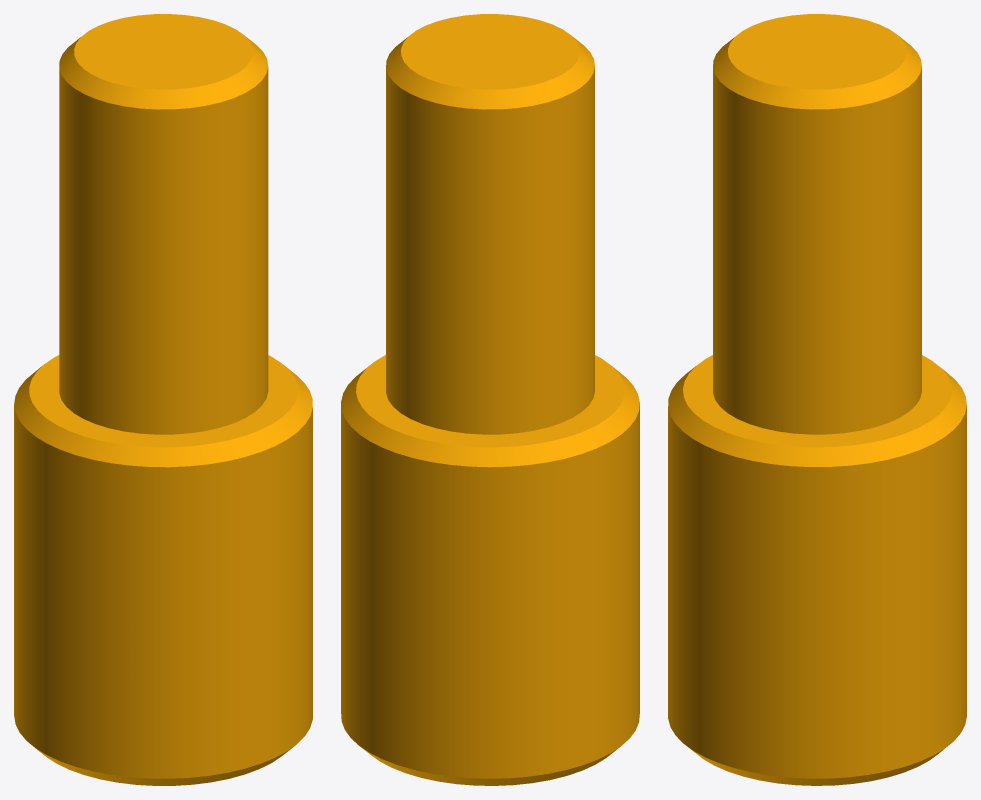
3 renders of one model, left to right at view 1: azimuth 30°, elevation 25°; view 2: azimuth 150°, elevation 25°; view 3: azimuth 270°, elevation 25°, orthographic.
Visible parts, largest first — view 1: peca; view 2: peca; view 3: peca.
Boxes of the visible parts, bbox=[...] form: peca: bbox=[14, 14, 312, 785]; peca: bbox=[341, 14, 639, 785]; peca: bbox=[668, 14, 966, 785].
Bounding box in the file's own units: 1.24 × 3.11 × 1.24.
